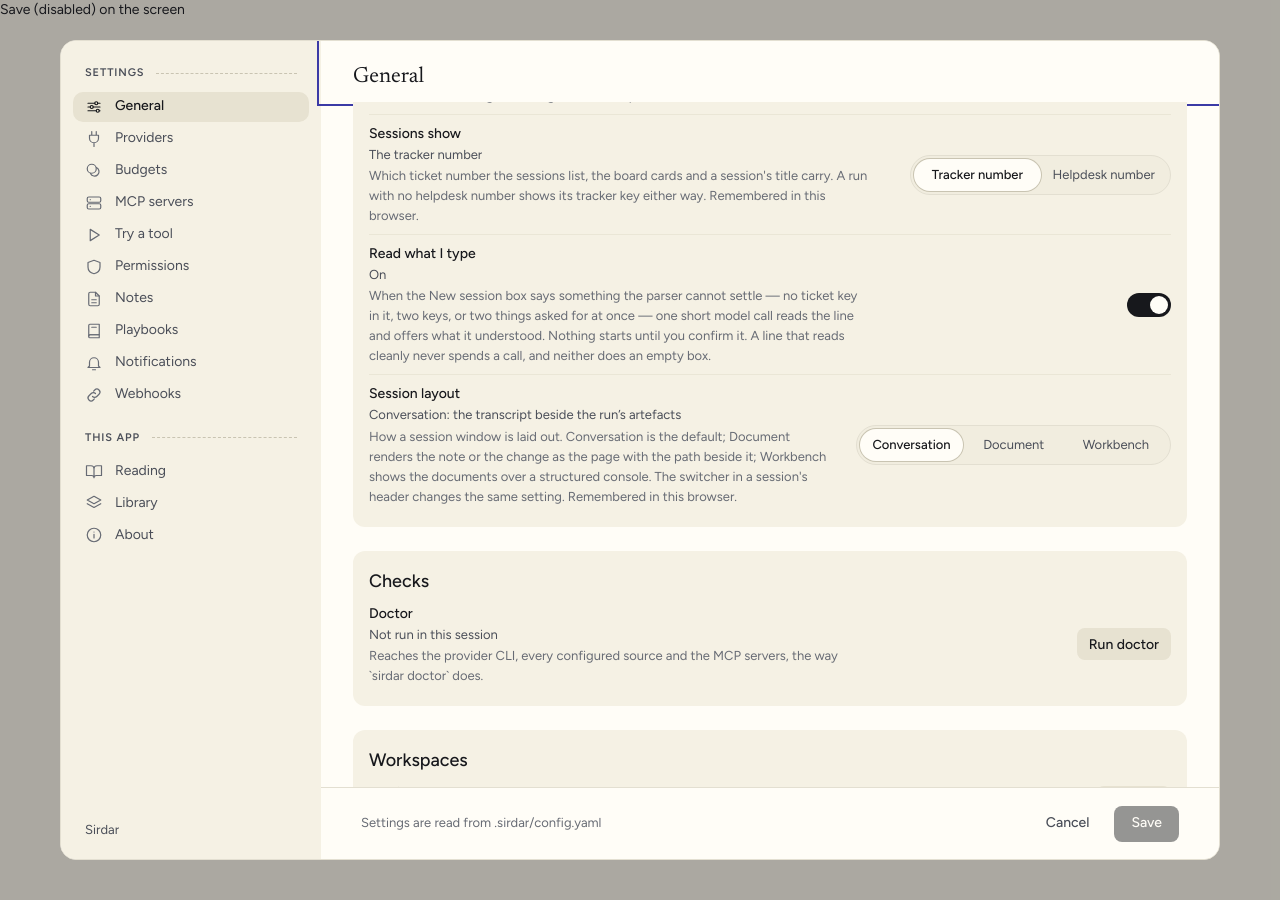
it: General › switches the session layout, listing Conversation first as the default, and remembers it
(page scrolled)
Expected: the radio button labelled "Conversation" is checked, [860,429,963,461]
Click the radio button labelled "Workbench". click: [1116, 445]
box: [1065,429,1167,461]
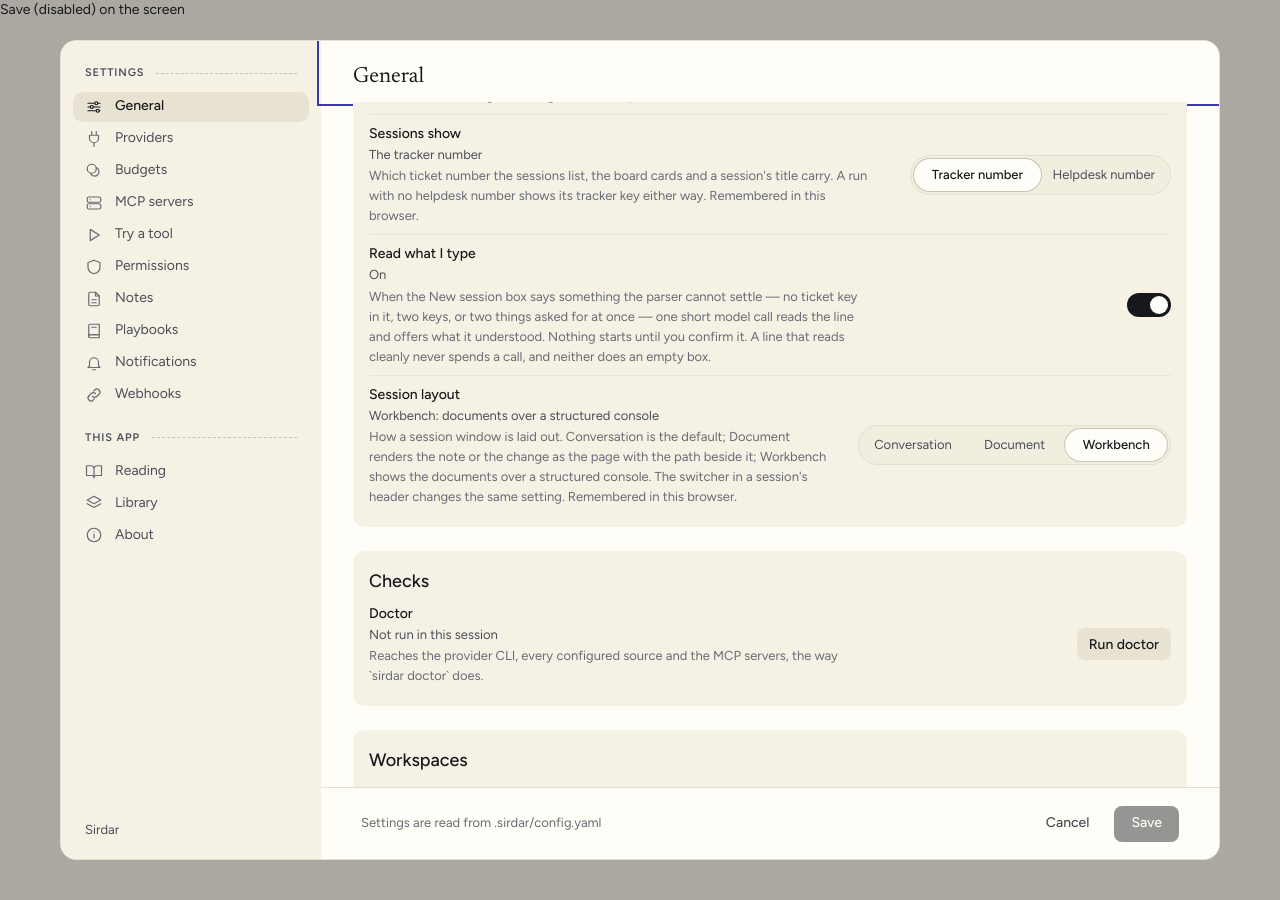
Result: the text "Workbench: documents over a structured console" is shown at [369,408,659,423]
